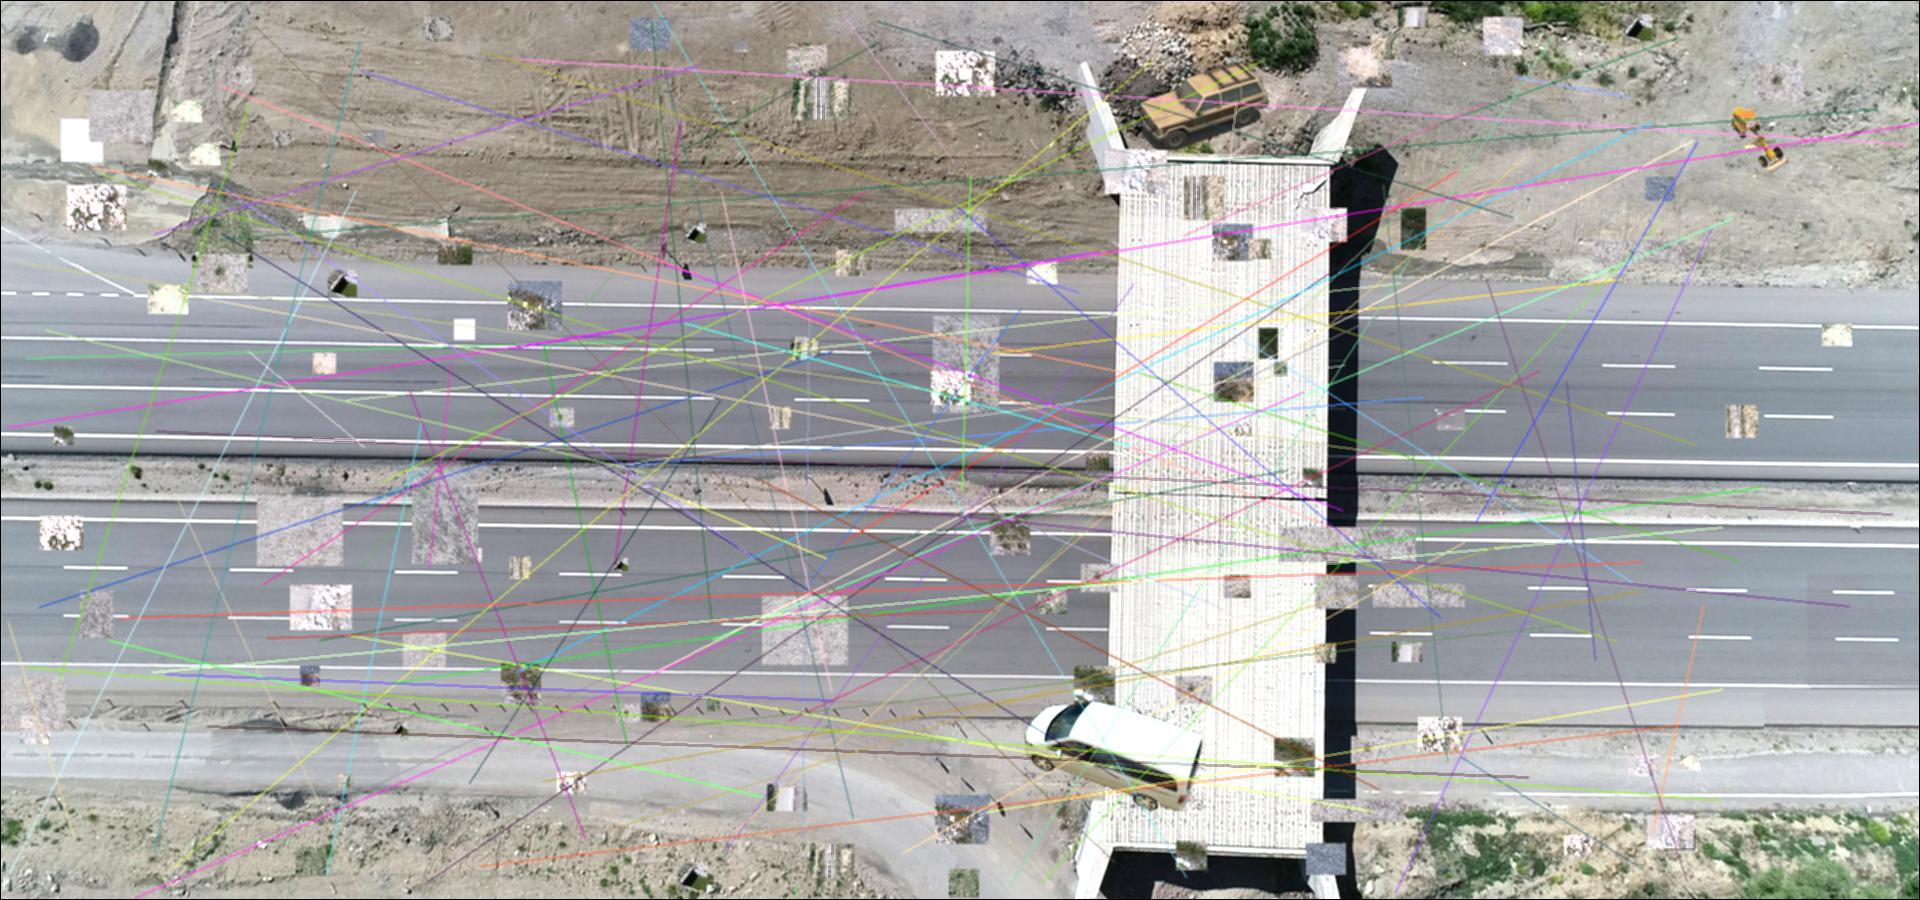arac: (1022, 700, 1202, 817), (1140, 59, 1269, 149), (1728, 105, 1791, 176)
